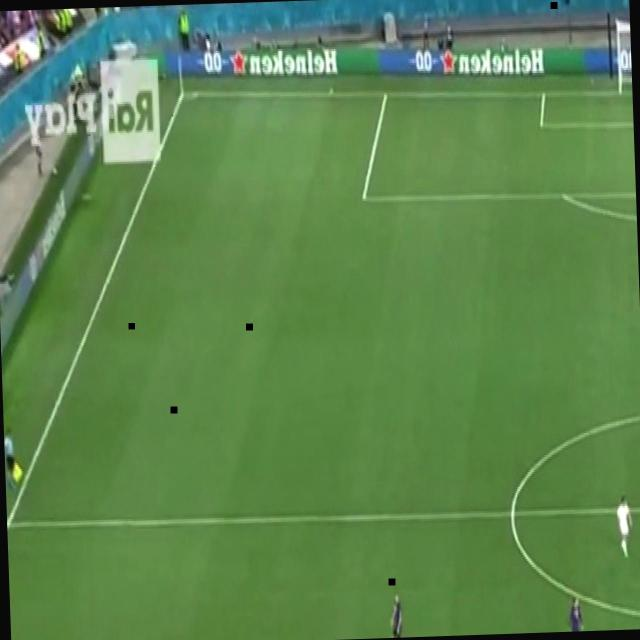player-white: (614, 494, 634, 559), (3, 424, 19, 490), (566, 592, 586, 632), (389, 590, 405, 638)
